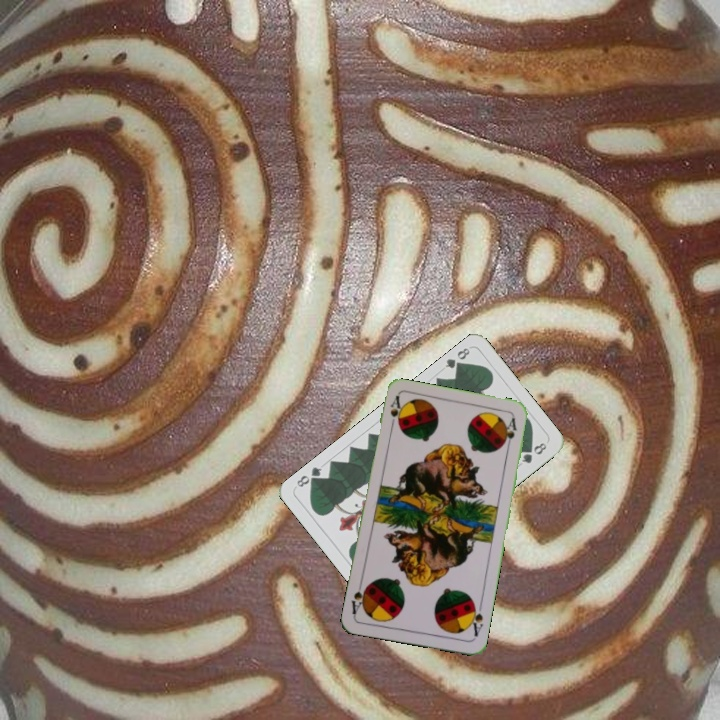G8: (441, 344, 473, 374)
SA: (465, 598, 486, 639), (386, 392, 403, 433)
